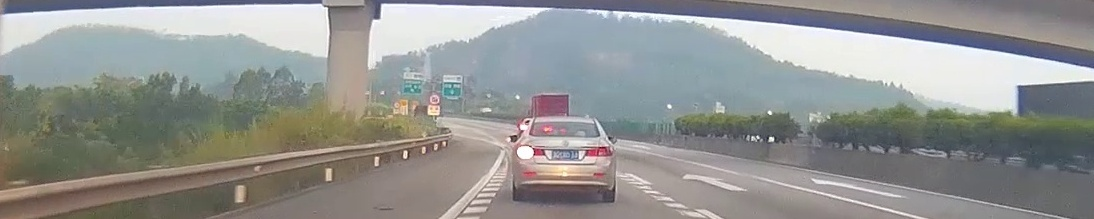L_light: (516, 145, 546, 156)
R_light: (585, 145, 614, 157)
T_light: (557, 134, 575, 136)
day-left: (511, 116, 616, 203)
